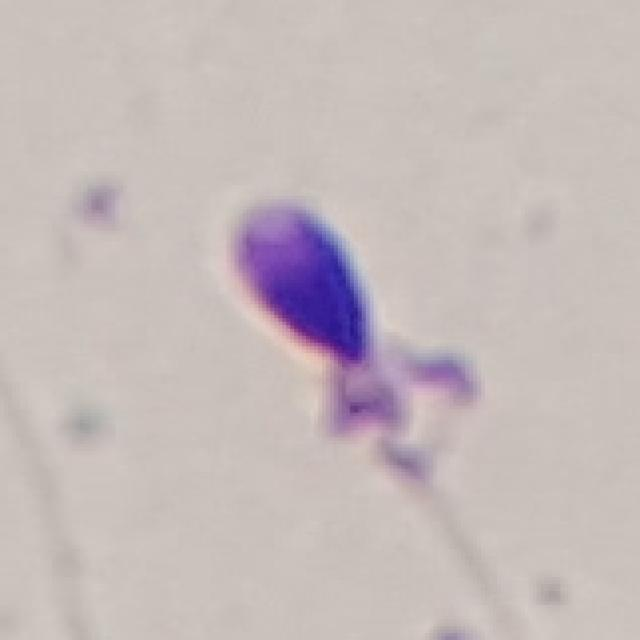normal sperm: (229, 199, 437, 484)
